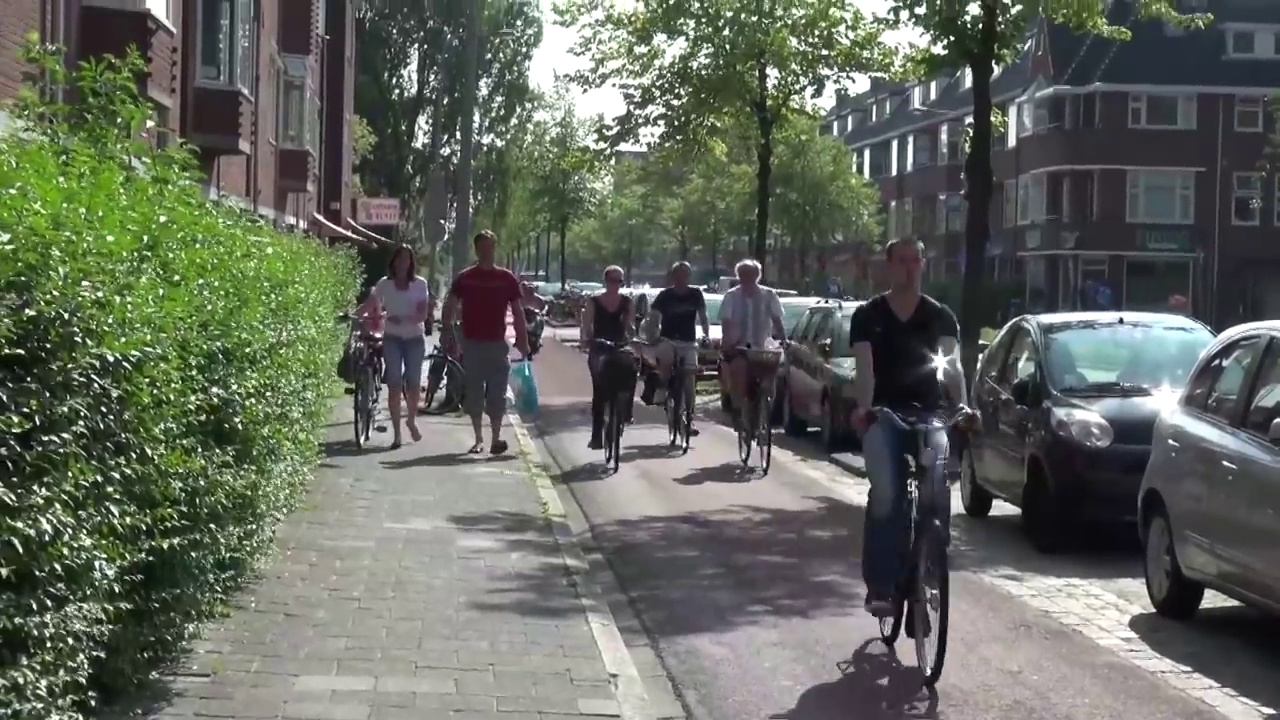cyclist_front: (848, 238, 983, 693), (720, 261, 781, 489), (588, 257, 645, 483), (655, 252, 701, 461)
